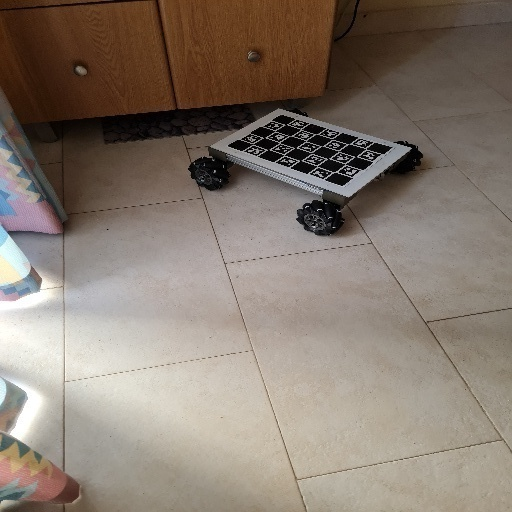Omniwheel: (188, 107, 425, 237)
